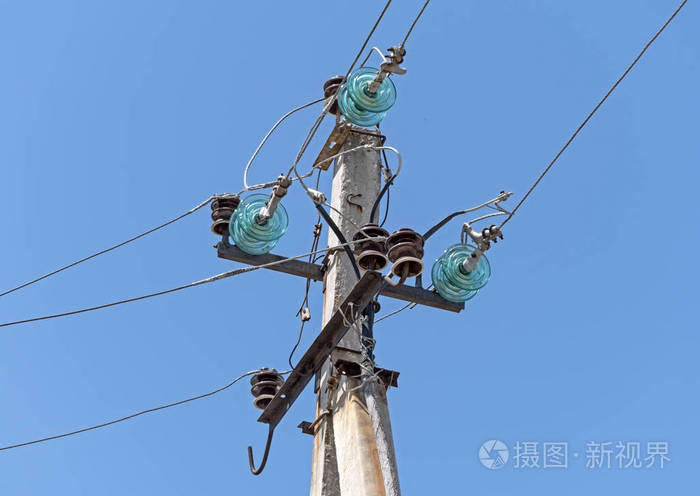insulator: (334, 64, 398, 127), (228, 191, 287, 256), (433, 243, 494, 303)
